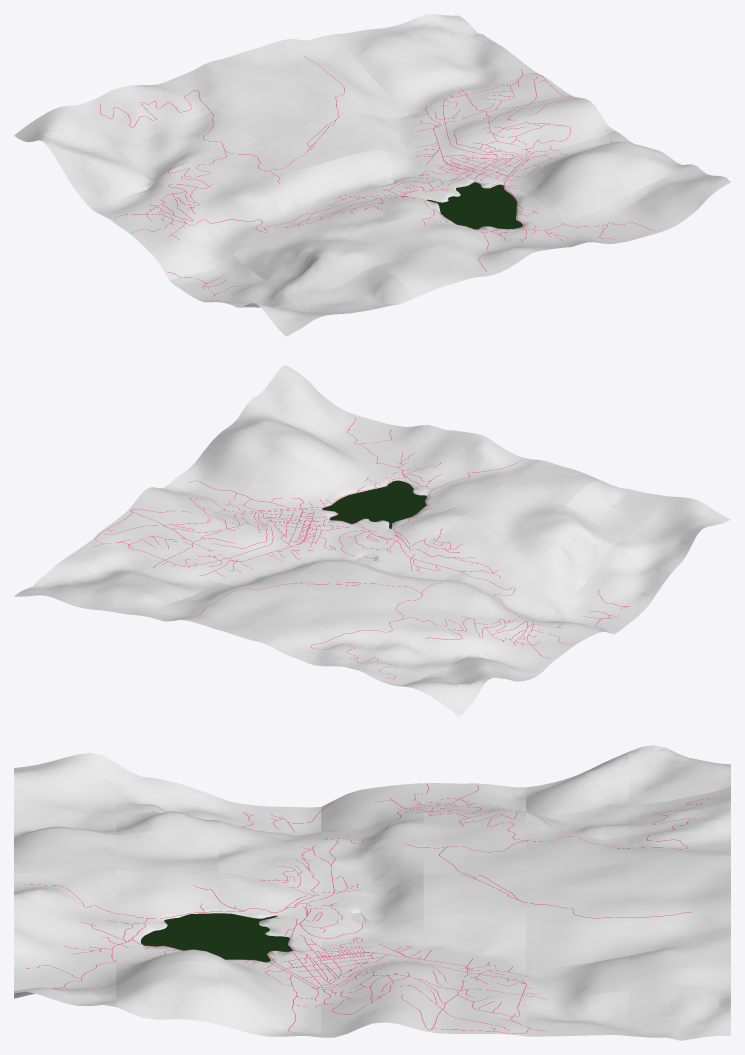
Rendered from Msh_Terrain_03.glb.
3 renders of one model, top to bottom at view 1: azimuth 30°, elevation 25°; view 2: azimuth 150°, elevation 25°; view 3: azimuth 270°, elevation 25°, orthographic. The views are drawn at different scales.
Visible parts, largest first — view 1: Msh_Sec3_Bloque41, Msh_Roads, Msh_Sec3_Bloque11, Msh_Sec3_Bloque4, Msh_Sec3_Bloque8, Msh_Sec3_Bloque2, Msh_Sec3_Bloque37, Msh_Sec3_Bloque49, Msh_Sec3_Bloque46, Msh_Sec3_Bloque39, Msh_Sec3_Bloque18, Msh_Sec3_Bloque15 (+39 smaller); view 2: Msh_Sec3_Bloque40, Msh_Roads, Msh_Sec3_Bloque12, Msh_Sec3_Bloque47, Msh_Sec3_Bloque6, Msh_Sec3_Bloque49, Msh_Sec3_Bloque13, Msh_Sec3_Bloque19, Msh_Sec3_Bloque14, Msh_Sec3_Bloque5, Msh_Sec3_Bloque35, Msh_Sec3_Bloque38 (+39 smaller); view 3: Msh_Sec3_Bloque30, Msh_Sec3_Bloque31, Msh_Sec3_Bloque43, Msh_Sec3_Bloque48, Msh_Roads, Msh_Sec3_Bloque29, Msh_Sec3_Bloque7, Msh_Sec3_Bloque35, Msh_Sec3_Bloque27, Msh_Water, Msh_Sec3_Bloque47, Msh_Sec3_Bloque1 (+39 smaller).
Part boxes in pixels (<box>): Msh_Sec3_Bloque41: <box>526,152,628,223</box>; Msh_Roads: <box>100,56,654,295</box>; Msh_Sec3_Bloque11: <box>194,183,295,253</box>; Msh_Sec3_Bloque4: <box>131,210,232,280</box>; Msh_Sec3_Bloque8: <box>78,85,179,147</box>; Msh_Sec3_Bloque2: <box>53,148,154,208</box>; Msh_Sec3_Bloque37: <box>371,56,472,114</box>; Msh_Sec3_Bloque49: <box>629,164,730,229</box>; Msh_Sec3_Bloque46: <box>512,97,613,151</box>; Msh_Sec3_Bloque39: <box>449,114,550,168</box>; Msh_Sec3_Bloque18: <box>258,164,359,222</box>; Msh_Sec3_Bloque15: <box>141,64,242,124</box>; Msh_Sec3_Bloque40: <box>233,449,334,522</box>; Msh_Roads: <box>94,417,629,679</box>; Msh_Sec3_Bloque12: <box>487,537,589,606</box>; Msh_Sec3_Bloque47: <box>170,439,271,504</box>; Msh_Sec3_Bloque6: <box>590,535,691,598</box>; Msh_Sec3_Bloque49: <box>247,365,349,433</box>; Msh_Sec3_Bloque13: <box>526,506,627,577</box>; Msh_Sec3_Bloque19: <box>424,516,525,575</box>; Msh_Sec3_Bloque14: <box>565,480,666,535</box>; Msh_Sec3_Bloque5: <box>551,578,652,634</box>; Msh_Sec3_Bloque35: <box>374,425,476,478</box>; Msh_Sec3_Bloque38: <box>155,525,257,582</box>; Msh_Sec3_Bloque30: <box>526,901,628,969</box>; Msh_Sec3_Bloque31: <box>423,908,525,969</box>; Msh_Sec3_Bloque43: <box>628,985,730,1040</box>; Msh_Sec3_Bloque48: <box>116,960,218,1024</box>; Msh_Roads: <box>25,784,717,1033</box>; Msh_Sec3_Bloque29: <box>628,890,730,955</box>; Msh_Sec3_Bloque7: <box>14,753,116,814</box>; Msh_Sec3_Bloque35: <box>14,900,116,962</box>; Msh_Sec3_Bloque27: <box>116,870,218,924</box>; Msh_Water: <box>141,913,292,962</box>; Msh_Sec3_Bloque47: <box>219,968,321,1037</box>; Msh_Sec3_Bloque1: <box>628,745,730,805</box>.
Size of the model in its own units: 3991 by 670 by 4226.
